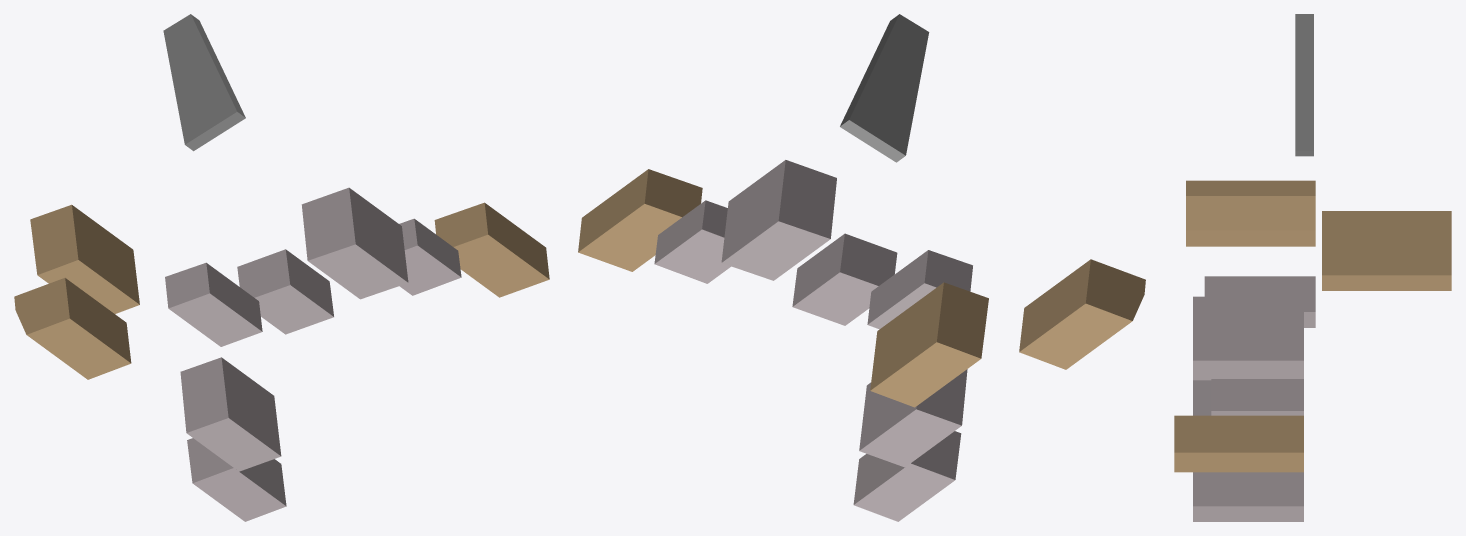
3 renders of one model, left to right at view 1: azimuth 30°, elevation 25°; view 2: azimuth 150°, elevation 25°; view 3: azimuth 270°, elevation 25°, orthographic. The views are drawn at different scales.
Parts seen in each view (by area): view 1: 0_0_3_2_0_1_0_2; view 2: 0_0_3_2_0_1_0_2; view 3: 0_0_3_2_0_1_0_2.
Part boxes in pixels (<box>): 0_0_3_2_0_1_0_2: <box>14,14,549,521</box>; 0_0_3_2_0_1_0_2: <box>578,14,1145,521</box>; 0_0_3_2_0_1_0_2: <box>1174,14,1451,521</box>.
Bounding box in the file's own units: 92.3 × 87.62 × 44.9.
